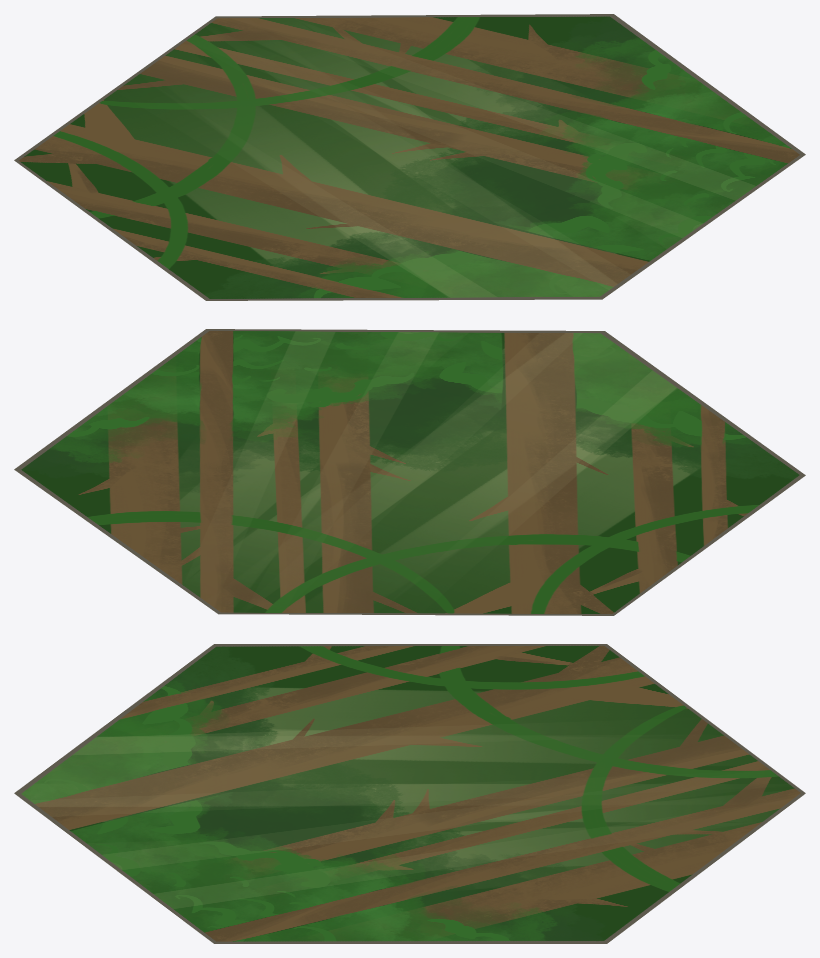
Rendered from Forest Tile.fbx.
3 renders of one model, top to bottom at view 1: azimuth 30°, elevation 25°; view 2: azimuth 150°, elevation 25°; view 3: azimuth 270°, elevation 25°, orthographic. The views are drawn at different scales.
Parts seen in each view (by area): view 1: Plane; view 2: Plane; view 3: Plane.
Part boxes in pixels (<box>): Plane: <box>14,14,805,300</box>; Plane: <box>14,329,805,615</box>; Plane: <box>14,644,805,943</box>.
Size of the model in its own units: 179 by 3.26e-05 by 200.
Materials: 1 (1 with a texture image).
